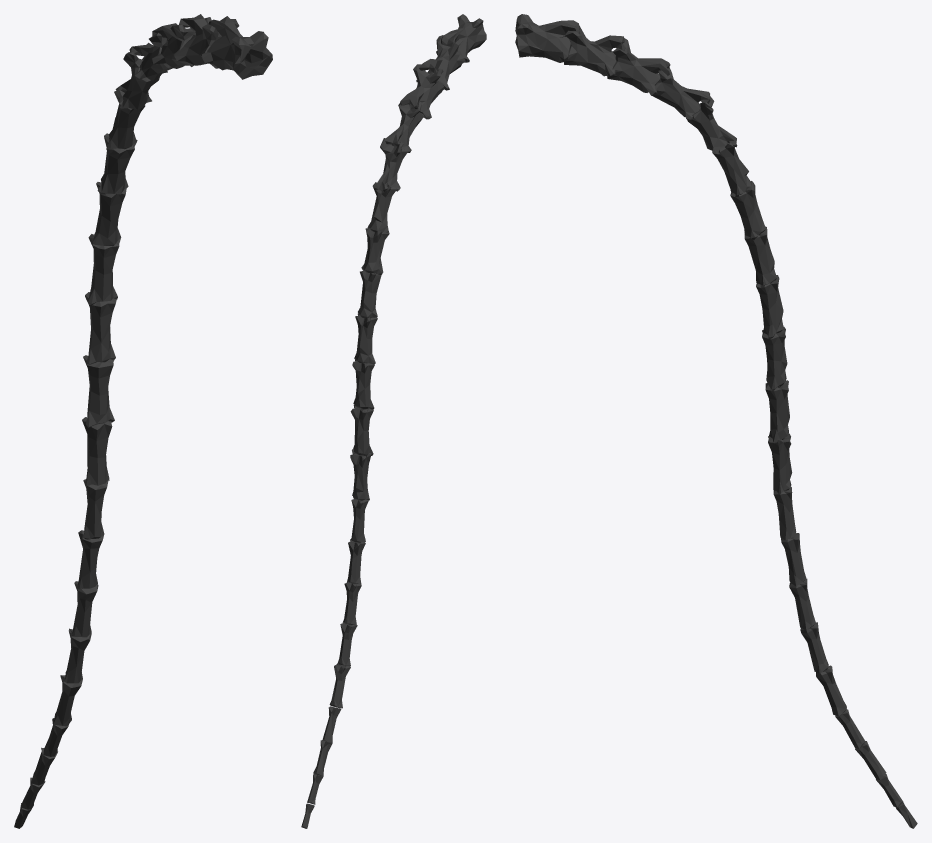
File: Spine_coccygeals.glb
3 renders of one model, left to right at view 1: azimuth 30°, elevation 25°; view 2: azimuth 150°, elevation 25°; view 3: azimuth 270°, elevation 25°, orthographic. The views are drawn at different scales.
Visible parts, largest first — view 1: Spine_coccygeals; view 2: Spine_coccygeals; view 3: Spine_coccygeals.
Boxes of the visible parts, bbox=[...] form: Spine_coccygeals: bbox=[14, 14, 272, 828]; Spine_coccygeals: bbox=[301, 14, 486, 828]; Spine_coccygeals: bbox=[515, 14, 917, 828].
Size of the model in its own units: 0.000541 by 0.0107 by 0.00483.
1 material, 1 textured.
